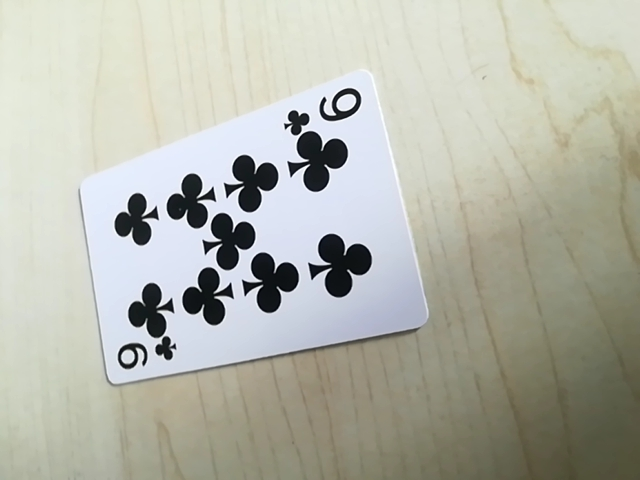mh 9: (281, 85, 370, 131), (109, 331, 179, 378)
